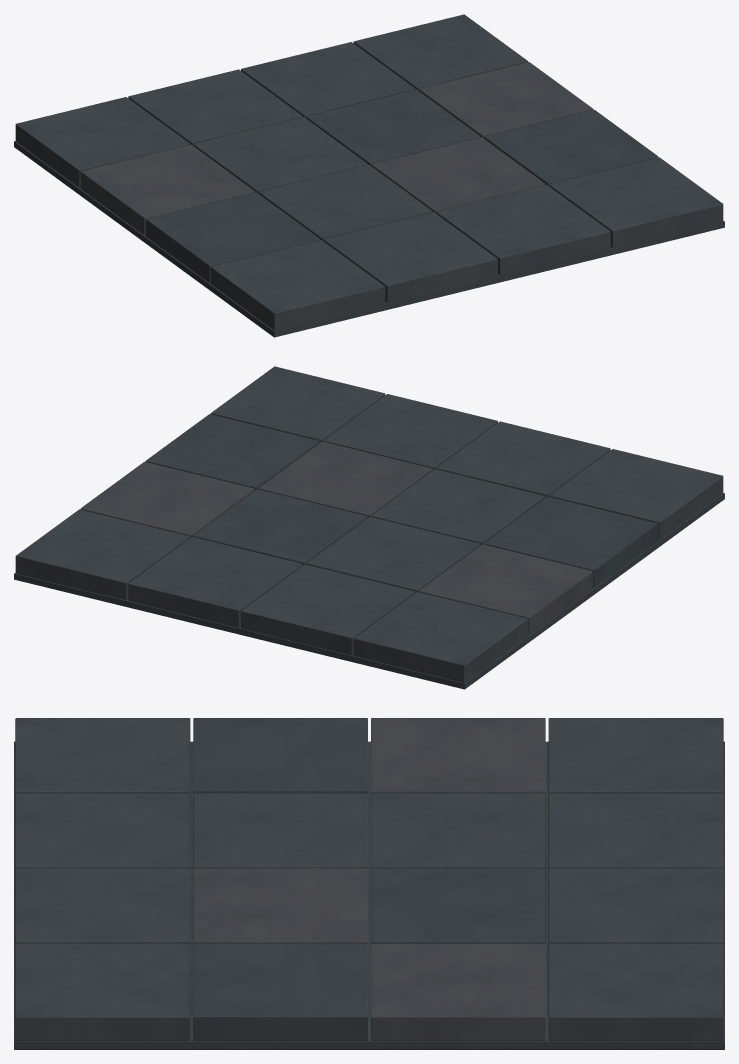
3 renders of one model, top to bottom at view 1: azimuth 30°, elevation 25°; view 2: azimuth 150°, elevation 25°; view 3: azimuth 270°, elevation 25°, orthographic. The views are drawn at different scales.
Parts seen in each view (by area): view 1: FT_046_slab_01, FT_046_slab_04, FT_046_slab_02, FT_046_slab_03, FT_046_slab_05, FT_046_slab_13, FT_046_slab_09, FT_046_slab_16, FT_046_slab_07, FT_046_slab_12, FT_046_slab_14, FT_046_slab_08 (+5 smaller); view 2: FT_046_slab_13, FT_046_slab_16, FT_046_slab_14, FT_046_slab_15, FT_046_slab_09, FT_046_slab_01, FT_046_slab_05, FT_046_slab_04, FT_046_slab_02, FT_046_slab_08, FT_046_slab_11, FT_046_slab_03 (+5 smaller); view 3: FT_046_slab_04, FT_046_slab_16, FT_046_slab_08, FT_046_slab_12, FT_046_slab_01, FT_046_slab_13, FT_046_slab_02, FT_046_slab_03, FT_046_slab_14, FT_046_slab_15, FT_046_slab_05, FT_046_slab_06 (+5 smaller).
Boxes of the visible parts, x1=… form: FT_046_slab_01: x1=210, y1=240, x2=385, y2=330; FT_046_slab_04: x1=549, y1=157, x2=723, y2=248; FT_046_slab_02: x1=323, y1=212, x2=497, y2=303; FT_046_slab_03: x1=436, y1=185, x2=610, y2=275; FT_046_slab_05: x1=145, y1=192, x2=320, y2=283; FT_046_slab_13: x1=15, y1=97, x2=189, y2=187; FT_046_slab_09: x1=80, y1=144, x2=254, y2=235; FT_046_slab_16: x1=353, y1=14, x2=528, y2=90; FT_046_slab_07: x1=371, y1=137, x2=545, y2=213; FT_046_slab_12: x1=418, y1=62, x2=593, y2=138; FT_046_slab_14: x1=128, y1=69, x2=302, y2=145; FT_046_slab_08: x1=484, y1=109, x2=658, y2=185; FT_046_slab_13: x1=353, y1=592, x2=528, y2=682; FT_046_slab_16: x1=15, y1=509, x2=189, y2=600; FT_046_slab_14: x1=241, y1=564, x2=415, y2=655; FT_046_slab_15: x1=128, y1=537, x2=302, y2=627; FT_046_slab_09: x1=418, y1=544, x2=593, y2=635; FT_046_slab_01: x1=549, y1=449, x2=723, y2=539; FT_046_slab_05: x1=484, y1=496, x2=658, y2=587; FT_046_slab_04: x1=210, y1=366, x2=385, y2=442; FT_046_slab_02: x1=436, y1=421, x2=610, y2=497; FT_046_slab_08: x1=145, y1=414, x2=320, y2=490; FT_046_slab_11: x1=193, y1=489, x2=367, y2=565; FT_046_slab_03: x1=323, y1=394, x2=497, y2=469; FT_046_slab_04: x1=15, y1=943, x2=190, y2=1040; FT_046_slab_16: x1=548, y1=943, x2=723, y2=1040; FT_046_slab_08: x1=193, y1=943, x2=367, y2=1040; FT_046_slab_12: x1=371, y1=943, x2=545, y2=1040; FT_046_slab_01: x1=15, y1=718, x2=190, y2=793; FT_046_slab_13: x1=548, y1=718, x2=723, y2=793; FT_046_slab_02: x1=15, y1=793, x2=190, y2=868; FT_046_slab_03: x1=15, y1=868, x2=190, y2=943; FT_046_slab_14: x1=548, y1=793, x2=723, y2=868; FT_046_slab_15: x1=548, y1=868, x2=723, y2=943; FT_046_slab_05: x1=193, y1=718, x2=367, y2=793; FT_046_slab_06: x1=193, y1=793, x2=367, y2=868.
Size of the model in its own units: 2 by 0.1 by 2.
Materials: 17 (17 with a texture image).
